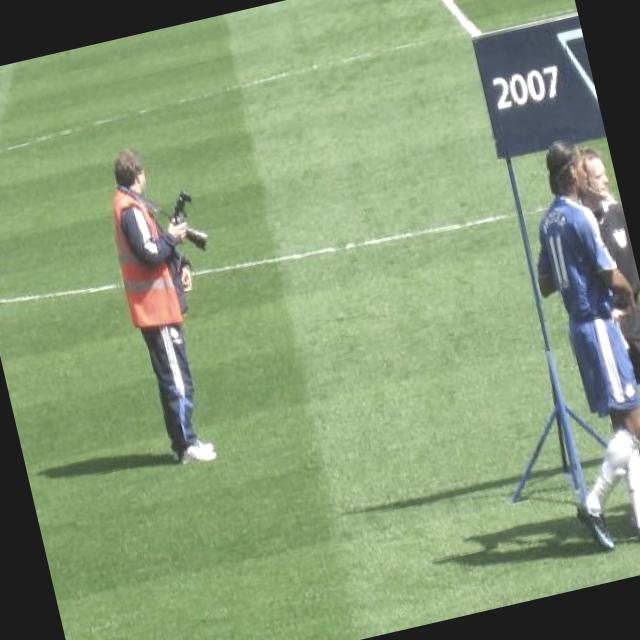Person: (498, 131, 640, 552), (93, 134, 241, 472), (565, 144, 640, 506)
